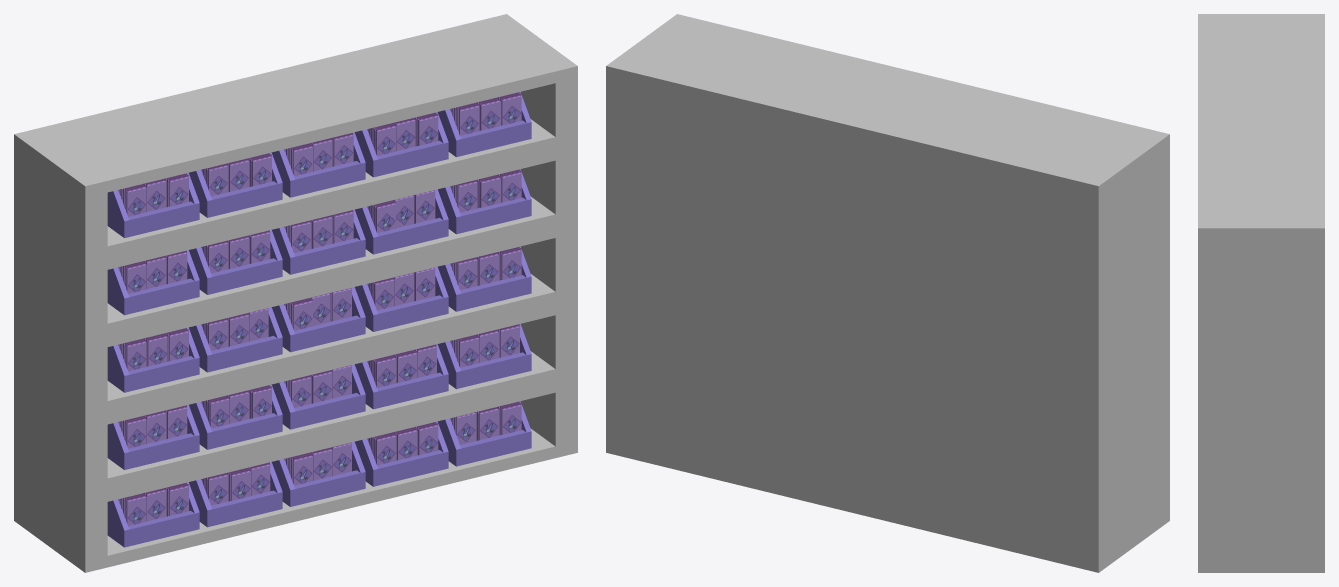
Rendered from Evelmart_Shelf_Wind.fbx.
3 views of the same model, side by side, from view 1: azimuth 30°, elevation 25°; view 2: azimuth 150°, elevation 25°; view 3: azimuth 270°, elevation 25° (orthographic). The views are drawn at different scales.
Visible parts, largest first — view 1: Long Bookshelf, Cube.033, Cube.034, Cube.032, Cube.031, Cube.035, Wind.004, Wind, Wind.001, Wind.003, Wind.002; view 2: Long Bookshelf; view 3: Long Bookshelf.
Part boxes in pixels (box(x1,y1,x2,y2)): Long Bookshelf: box(14, 14, 577, 572); Cube.033: box(107, 246, 531, 392); Cube.034: box(107, 169, 531, 315); Cube.032: box(107, 324, 531, 469); Cube.031: box(107, 401, 531, 547); Cube.035: box(107, 92, 531, 237); Wind.004: box(118, 92, 521, 216); Wind: box(118, 401, 521, 526); Wind.001: box(118, 324, 519, 448); Wind.003: box(118, 169, 521, 293); Wind.002: box(118, 246, 521, 371); Long Bookshelf: box(606, 14, 1169, 572); Long Bookshelf: box(1198, 14, 1324, 572).
Size of the model in its own units: 805 by 604 by 201.
